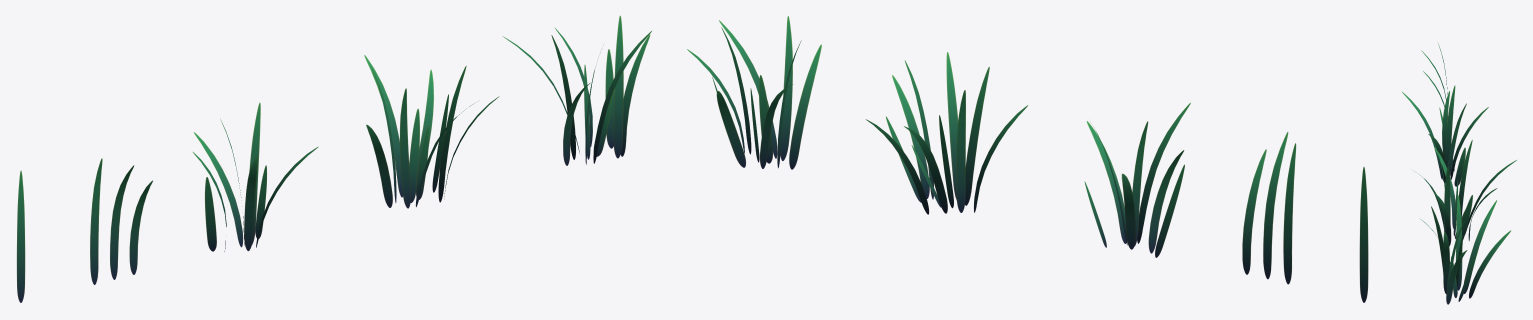
The model's file is grass.glb.
The picture shows the model from 3 angles, left to right: view 1: azimuth 30°, elevation 25°; view 2: azimuth 150°, elevation 25°; view 3: azimuth 270°, elevation 25°; orthographic projection. The views are drawn at different scales.
Parts seen in each view (by area): view 1: Grass:Grass_low9 (×2), Grass:Grass_low1 (×2), Grass:Grass_low10 (×2), Grass:Grass_Master3 (×2), Grass:Grass_Master, Grass:Grass_low3, Grass:Grass_low6, Grass:Grass_low12, Grass:Grass_low4, Grass:Grass_low7, Grass:Grass_low2, Grass:Grass_Master1 (+6 smaller); view 2: Grass:Grass_low6 (×2), Grass:Grass_low1 (×2), Grass:Grass_low2 (×2), Grass:Grass_low3 (×2), Grass:Grass_low10 (×2), Grass:Grass_low8 (×2), Grass:Grass_low13 (×2), Grass:Grass_low12 (×2), Grass:Grass_Master, Grass:Grass_low11, Grass:Grass_Master1 (×2), Grass:Grass_low9 (×2) (+4 smaller); view 3: Grass:Grass_low11 (×2), Grass:Grass_low12 (×2), Grass:Grass_low7 (×2), Grass:Grass_low13 (×2), Grass:Grass_low9 (×2), Grass:Grass_low8 (×2), Grass:Grass_Master3 (×2), Grass:Grass_low3, Grass:Grass_low5, Grass:Grass_low4, Grass:Grass_low10, Grass:Grass_low14 (+5 smaller).
Part boxes in pixels (x1,y1,x2,y2): Grass:Grass_low9 (×2): [438, 15, 623, 202]; Grass:Grass_low1 (×2): [110, 158, 257, 279]; Grass:Grass_low10 (×2): [366, 82, 590, 207]; Grass:Grass_Master3 (×2): [432, 49, 614, 192]; Grass:Grass_Master: [17, 170, 25, 302]; Grass:Grass_low3: [90, 158, 102, 284]; Grass:Grass_low6: [400, 88, 410, 208]; Grass:Grass_low12: [364, 55, 402, 197]; Grass:Grass_low4: [194, 132, 243, 247]; Grass:Grass_low7: [620, 35, 650, 156]; Grass:Grass_low2: [129, 180, 152, 274]; Grass:Grass_Master1: [409, 109, 419, 202]; Grass:Grass_low6 (×2): [780, 16, 989, 205]; Grass:Grass_low1 (×2): [1137, 102, 1288, 279]; Grass:Grass_low2 (×2): [1086, 121, 1266, 274]; Grass:Grass_low3 (×2): [1132, 121, 1296, 284]; Grass:Grass_low10 (×2): [789, 44, 1027, 212]; Grass:Grass_low8 (×2): [719, 20, 958, 199]; Grass:Grass_low13 (×2): [716, 91, 928, 214]; Grass:Grass_low12 (×2): [760, 84, 947, 213]; Grass:Grass_Master: [1359, 167, 1368, 302]; Grass:Grass_low11: [956, 90, 965, 212]; Grass:Grass_Master1 (×2): [759, 75, 953, 208]; Grass:Grass_low9 (×2): [721, 27, 933, 199]; Grass:Grass_low11 (×2): [1456, 140, 1472, 290]; Grass:Grass_low12 (×2): [1464, 160, 1516, 293]; Grass:Grass_low7 (×2): [1434, 193, 1467, 304]; Grass:Grass_low13 (×2): [1468, 188, 1510, 298]; Grass:Grass_low9 (×2): [1444, 166, 1464, 291]; Grass:Grass_low8 (×2): [1413, 170, 1449, 293]; Grass:Grass_Master3 (×2): [1458, 195, 1478, 301]; Grass:Grass_low3: [1445, 85, 1455, 168]; Grass:Grass_low5: [1447, 103, 1466, 175]; Grass:Grass_low4: [1450, 107, 1488, 179]; Grass:Grass_low10: [1434, 147, 1455, 228]; Grass:Grass_low14: [1442, 91, 1449, 158].
Size of the model in its own units: 68.14 by 13.82 by 16.05.
1 material, 1 textured.
